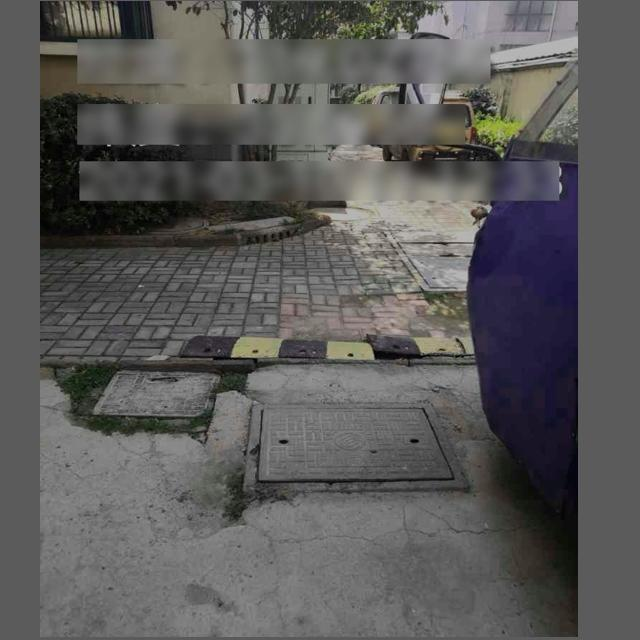good: (236, 404, 469, 491), (89, 367, 220, 418), (384, 225, 477, 292)
